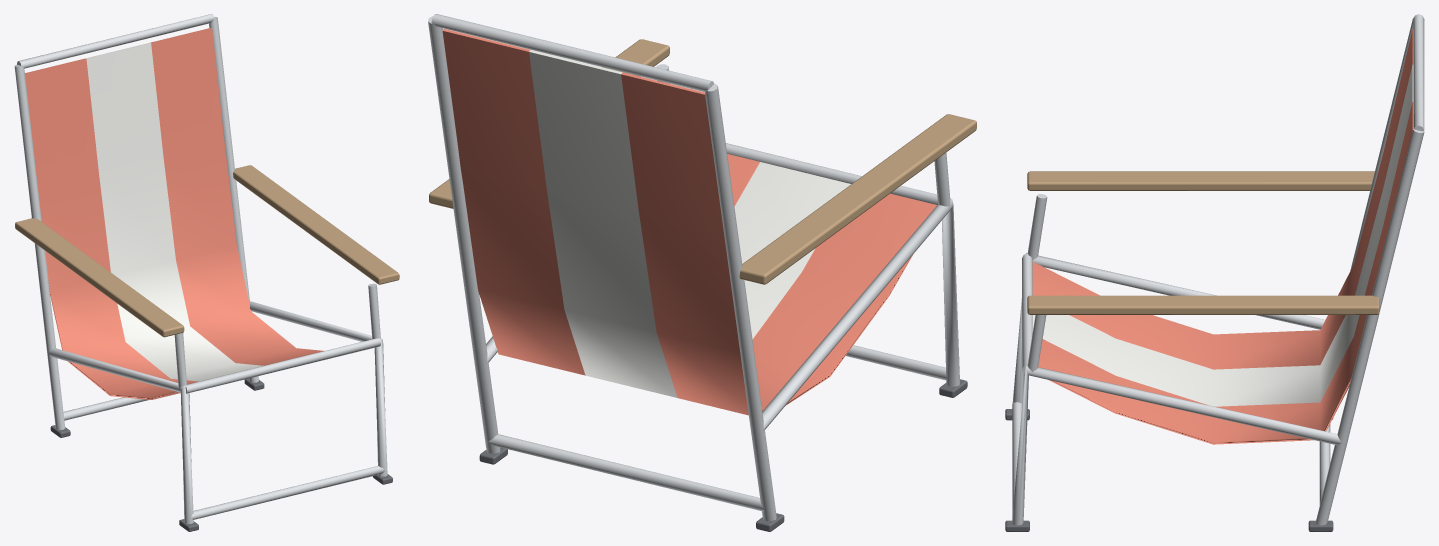
File: beach-surf-and-paddle-kit-folding-beach-chair-68794f97.glb
3 renders of one model, left to right at view 1: azimuth 30°, elevation 25°; view 2: azimuth 150°, elevation 25°; view 3: azimuth 270°, elevation 25°, orthographic. The views are drawn at different scales.
Parts seen in each view (by area): view 1: folding-beach-chair-coral, folding-beach-chair-foam, folding-beach-chair-steel, folding-beach-chair-timber, folding-beach-chair-charcoal; view 2: folding-beach-chair-coral, folding-beach-chair-foam, folding-beach-chair-steel, folding-beach-chair-timber, folding-beach-chair-charcoal; view 3: folding-beach-chair-coral, folding-beach-chair-steel, folding-beach-chair-timber, folding-beach-chair-foam, folding-beach-chair-charcoal.
Boxes of the visible parts, x1,y1,x2,y2 form: folding-beach-chair-coral: [25, 28, 323, 399]; folding-beach-chair-foam: [85, 42, 263, 381]; folding-beach-chair-steel: [14, 14, 387, 523]; folding-beach-chair-timber: [15, 165, 399, 337]; folding-beach-chair-charcoal: [50, 378, 392, 531]; folding-beach-chair-coral: [442, 29, 936, 415]; folding-beach-chair-foam: [529, 50, 851, 397]; folding-beach-chair-steel: [428, 14, 959, 520]; folding-beach-chair-timber: [429, 39, 976, 284]; folding-beach-chair-charcoal: [479, 379, 967, 531]; folding-beach-chair-coral: [1032, 29, 1413, 444]; folding-beach-chair-steel: [1012, 14, 1424, 525]; folding-beach-chair-timber: [1027, 171, 1379, 314]; folding-beach-chair-foam: [1032, 64, 1413, 406]; folding-beach-chair-charcoal: [1005, 409, 1333, 531].
Size of the model in its own units: 0.66 by 0.911 by 0.8567.
